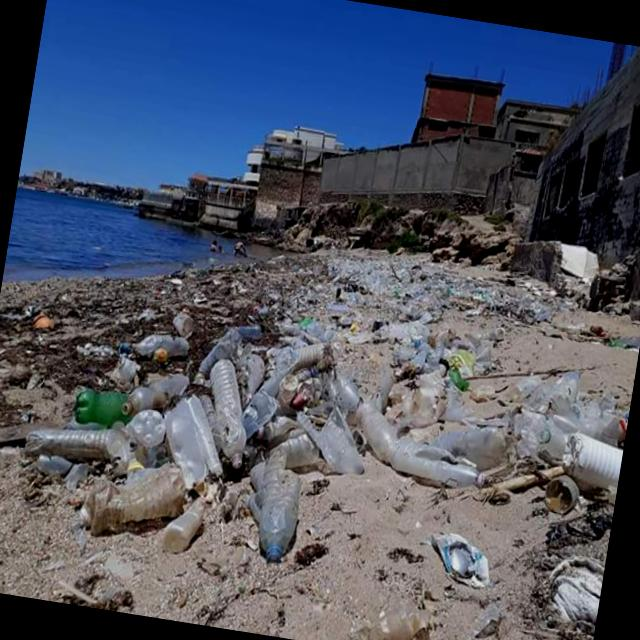garbage: (0, 254, 639, 640), (330, 246, 550, 333)
